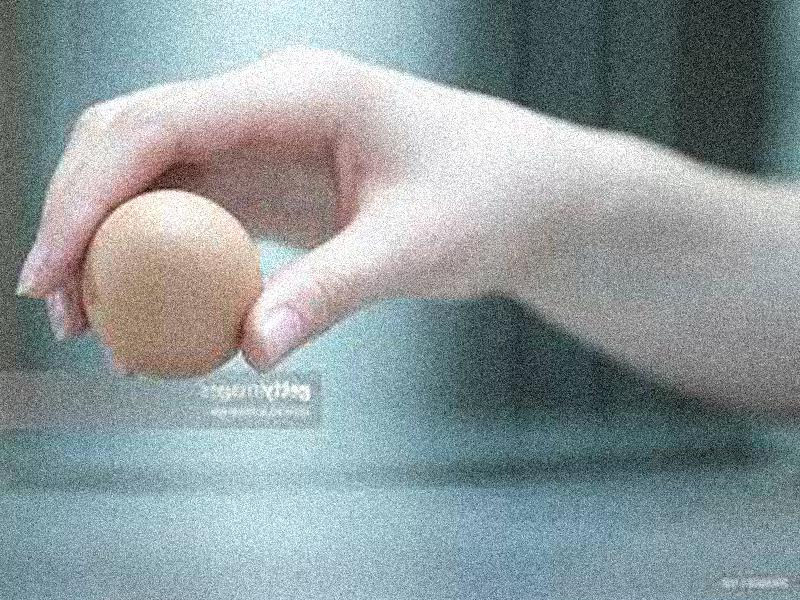Eggs: (82, 187, 266, 382)
